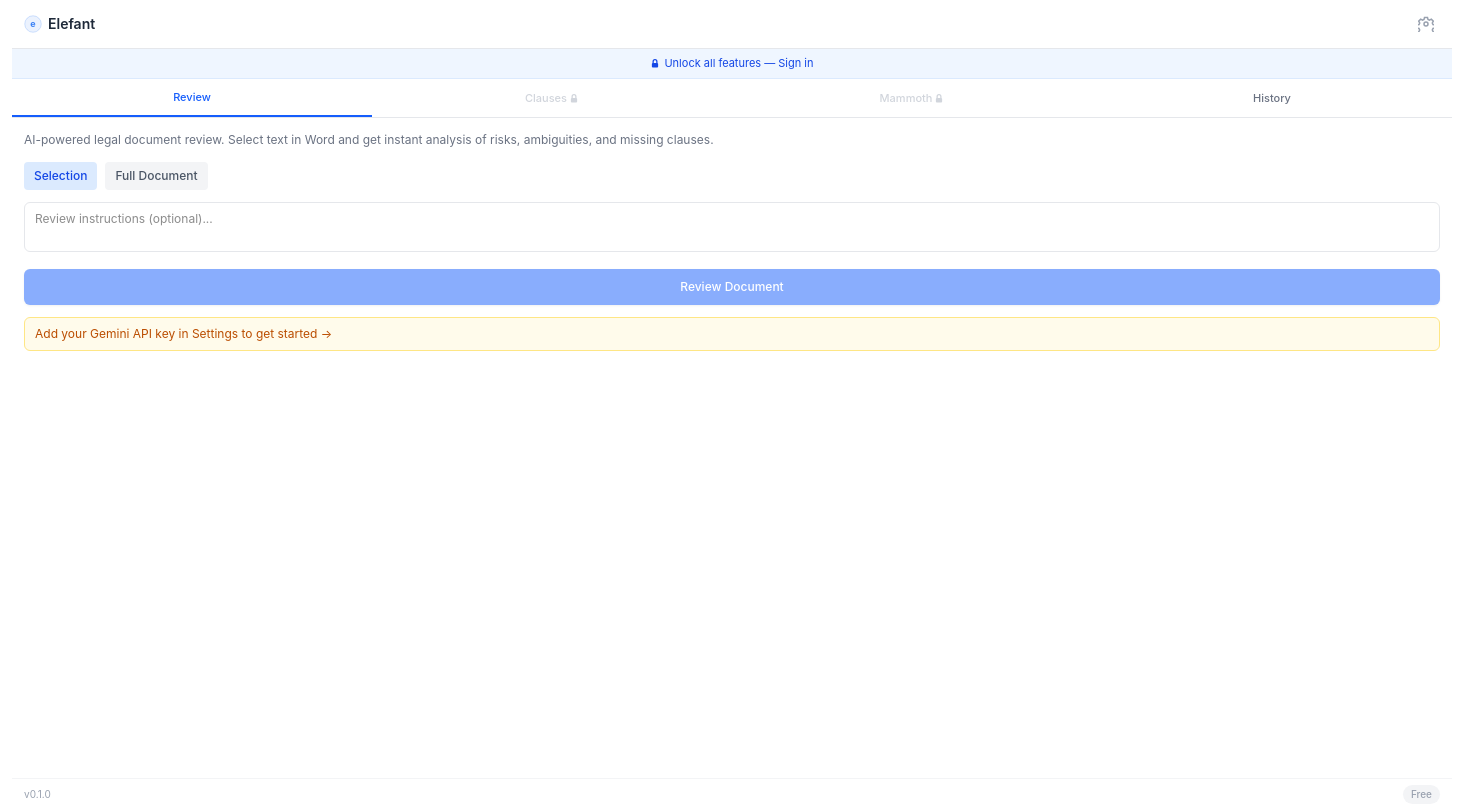
Test: App › switches to History tab
The width and height of the screenshot is (1464, 810).
Click the button "History" at (1272, 98), box [1092, 78, 1452, 117]
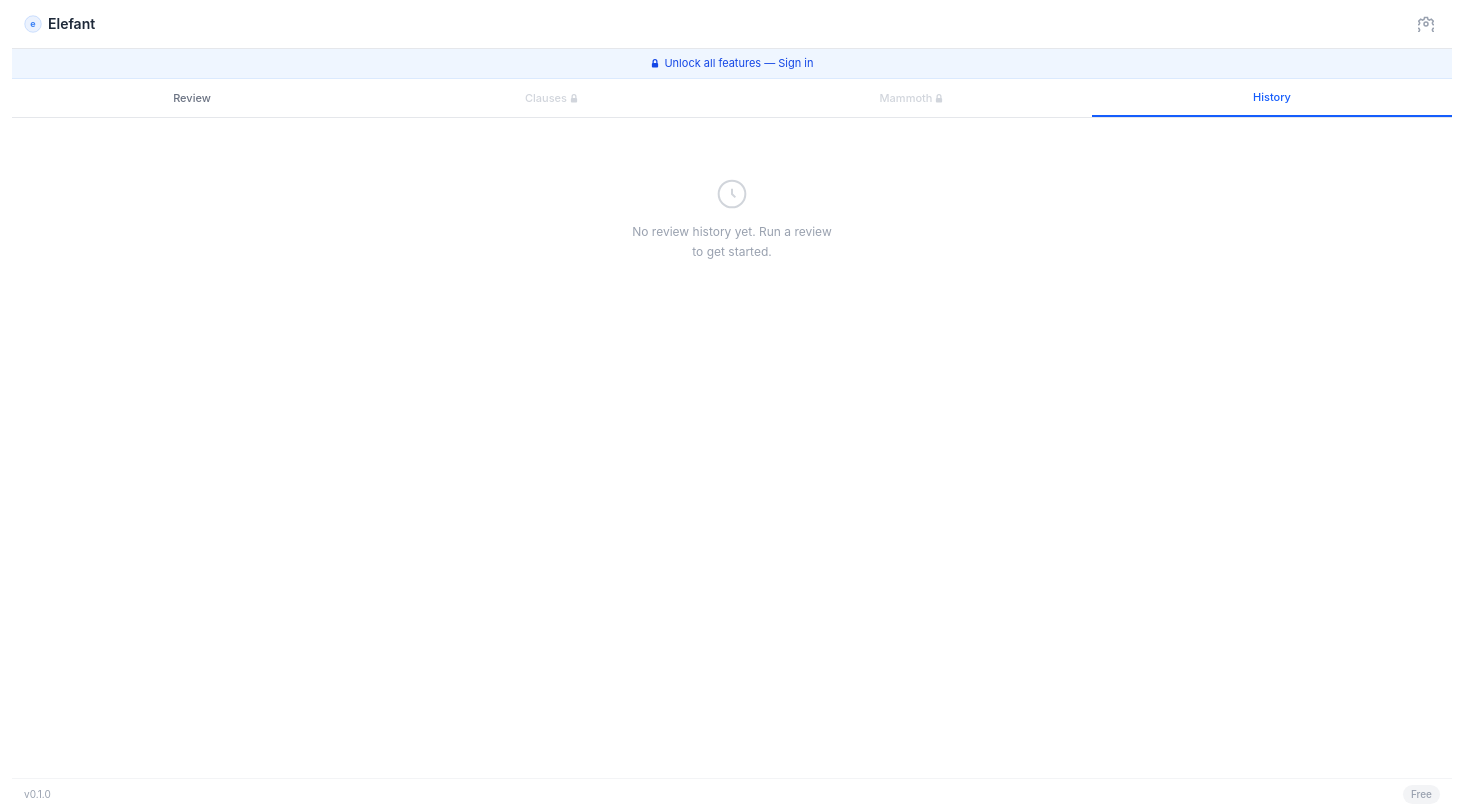
expect the text "No review history yet. Run a review to get started." is shown: met, box [632, 222, 832, 261]
